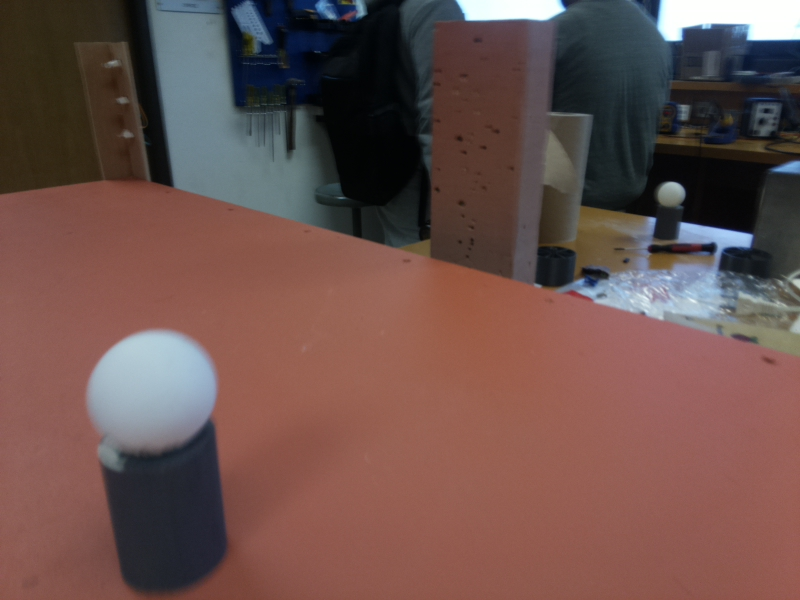obstacle: (99, 333, 230, 597)
